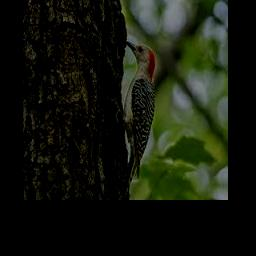Woodpecker: (107, 40, 155, 193)
